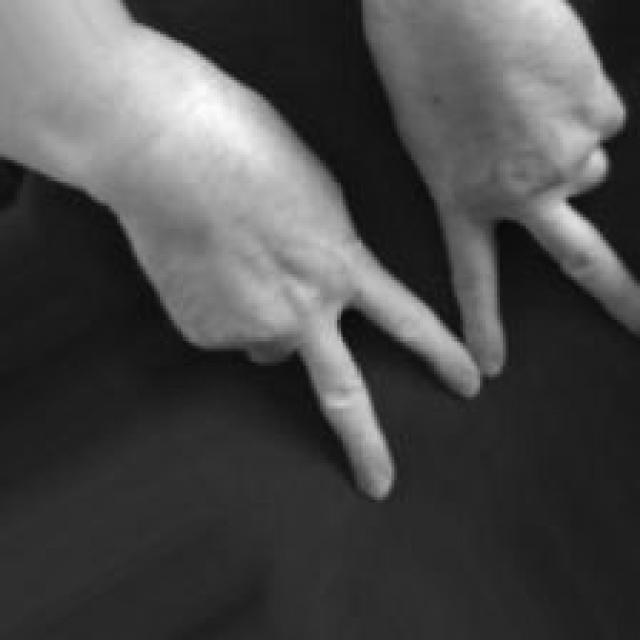M: (137, 0, 640, 506)
